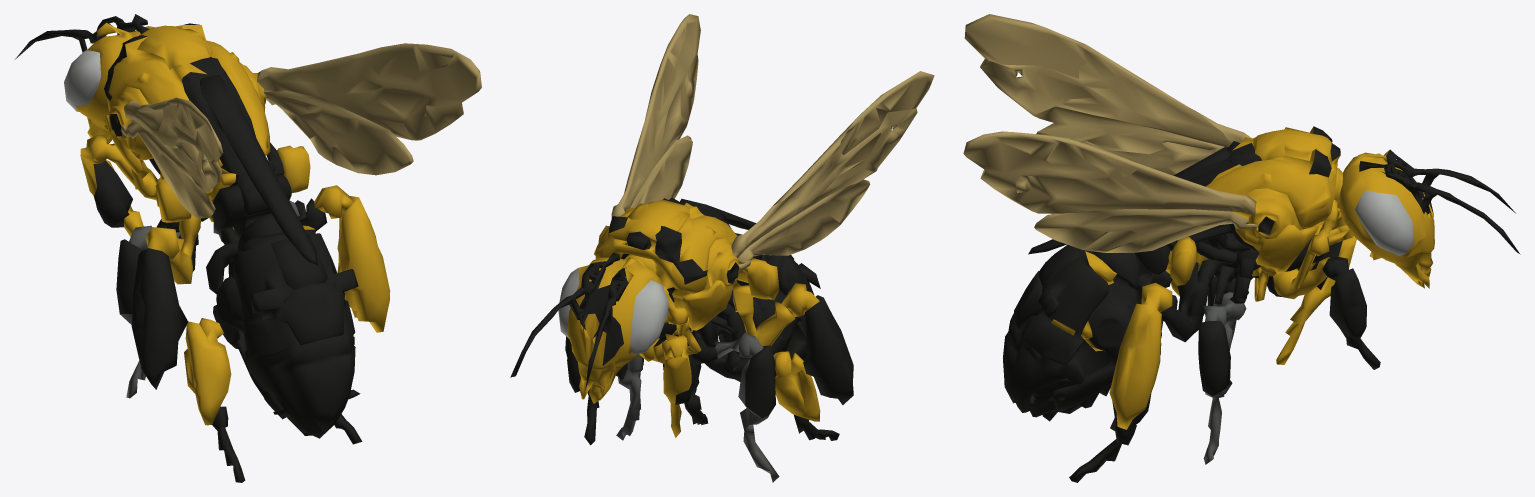
The model's file is bee.glb.
3 renders of one model, left to right at view 1: azimuth 30°, elevation 25°; view 2: azimuth 150°, elevation 25°; view 3: azimuth 270°, elevation 25°, orthographic. The views are drawn at different scales.
Parts seen in each view (by area): view 1: bee_abdomen, bee_thorax, bee_wing_R, bee_legs_L, bee_wing_L, bee_legs_R, bee_head, bee_legs_front; view 2: bee_thorax, bee_legs_L, bee_wing_L, bee_head, bee_wing_R, bee_abdomen, bee_legs_front, bee_legs_R; view 3: bee_wing_R, bee_wing_L, bee_abdomen, bee_thorax, bee_legs_R, bee_head, bee_legs_front, bee_legs_L.
Part boxes in pixels (box(x1,y1,x2,y2)): bee_abdomen: box(206, 163, 362, 444); bee_thorax: box(104, 23, 317, 264); bee_wing_R: box(257, 43, 481, 175); bee_legs_L: box(116, 214, 245, 482); bee_wing_L: box(121, 97, 223, 218); bee_legs_R: box(213, 185, 390, 332); bee_head: box(15, 14, 154, 143); bee_legs_front: box(80, 134, 165, 236); bee_thorax: box(594, 197, 779, 364); bee_legs_L: box(715, 283, 853, 482); bee_wing_L: box(731, 71, 934, 269); bee_head: box(510, 253, 668, 403); bee_wing_R: box(611, 14, 700, 218); bee_abdomen: box(663, 233, 820, 424); bee_legs_front: box(565, 322, 692, 445); bee_legs_R: box(616, 354, 643, 440); bee_wing_R: box(963, 131, 1257, 252); bee_wing_L: box(964, 14, 1251, 175); bee_abdomen: box(1003, 241, 1175, 482); bee_thorax: box(1028, 126, 1349, 304); bee_legs_R: box(1109, 259, 1246, 464); bee_head: box(1331, 149, 1520, 288); bee_legs_front: box(1267, 225, 1380, 369); bee_legs_L: box(1042, 271, 1236, 421).
Size of the model in its own units: 1 by 1.46 by 1.94.
